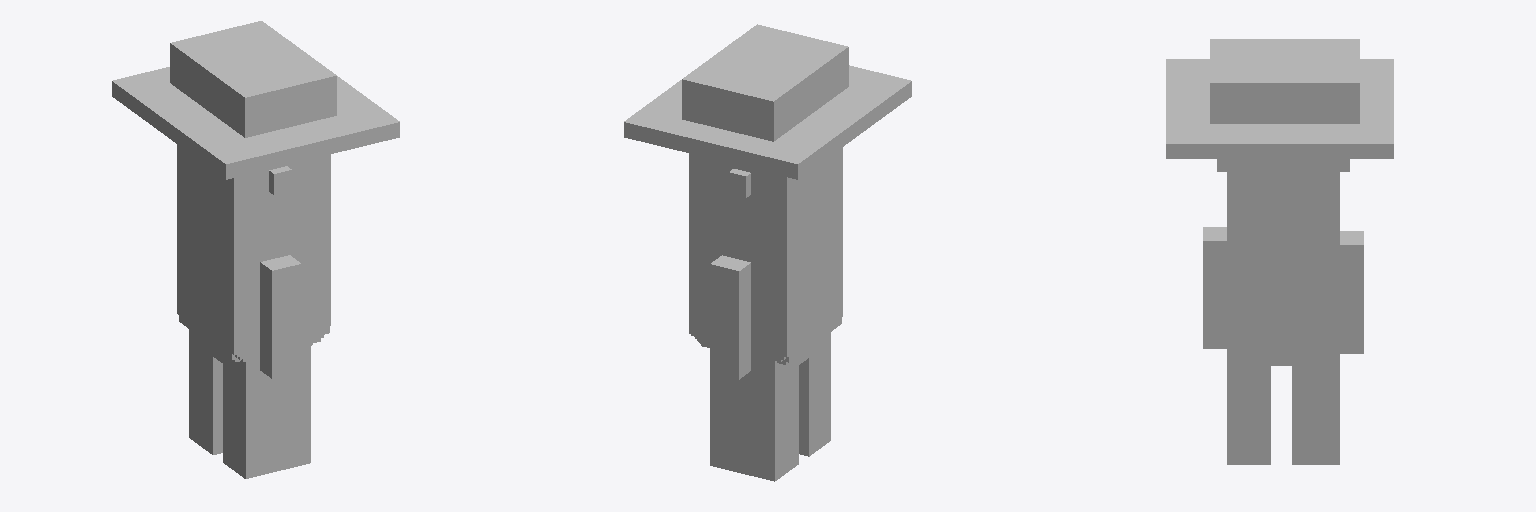
File: gold person.obj
3 views of the same model, side by side, from view 1: azimuth 30°, elevation 25°; view 2: azimuth 150°, elevation 25°; view 3: azimuth 270°, elevation 25° (orthographic).
Parts seen in each view (by area): view 1: gold person; view 2: gold person; view 3: gold person.
Boxes of the visible parts, <box> form: gold person: <box>112,21,399,478</box>; gold person: <box>624,24,911,481</box>; gold person: <box>1166,39,1393,464</box>.
Size of the model in its own units: 59 by 126 by 67.